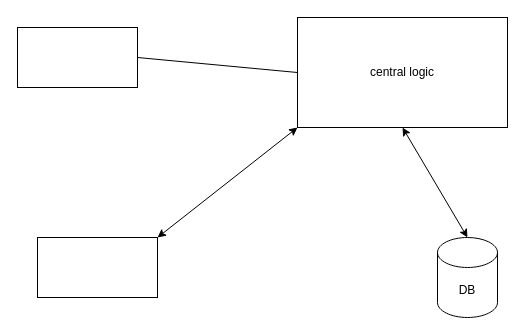
This 525x335 diagram has some shape labels left out. The shapes that lost their labels are listed below. From the top down, each one's centre as x and y in pixels, then its label:
(x=77, y=57): bus
(x=97, y=267): end clients
